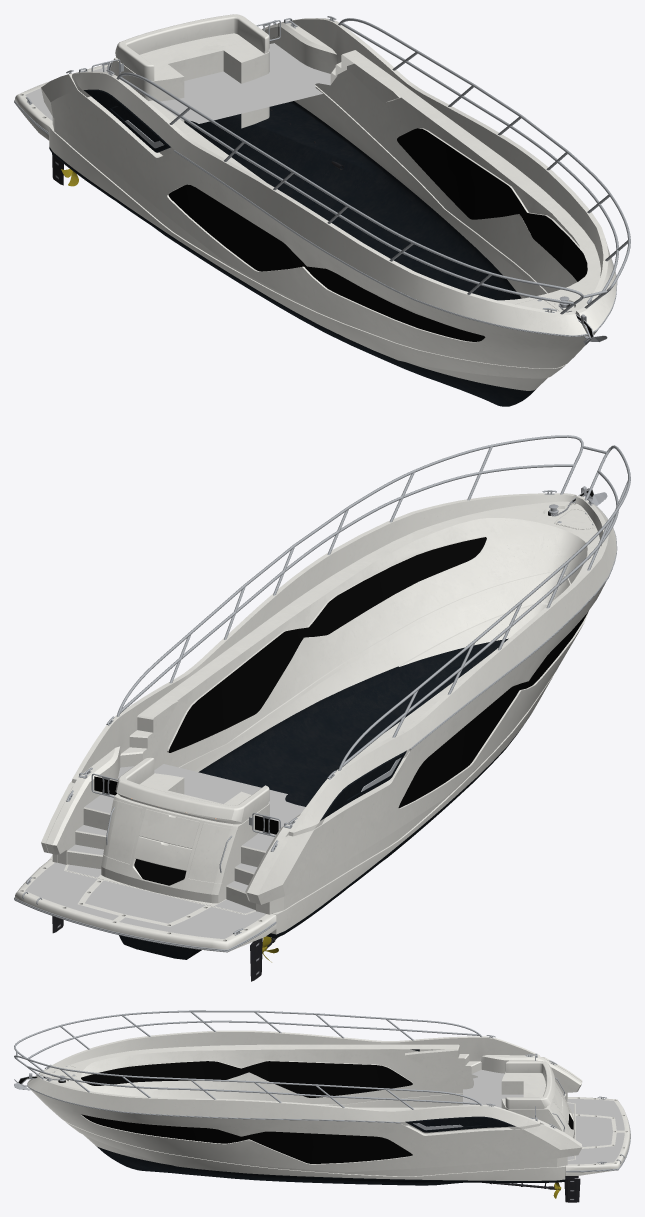
The model's file is Yacht_Base_01.fbx.
3 views of the same model, one above another, from view 1: azimuth 30°, elevation 25°; view 2: azimuth 150°, elevation 25°; view 3: azimuth 270°, elevation 25° (orthographic). The views are drawn at different scales.
Visible parts, largest first — view 1: Yacht_Base_01, Black_glass_01, Second_floor_Stair; view 2: Yacht_Base_01, Black_glass_01, Second_floor_Stair; view 3: Yacht_Base_01, Black_glass_01, Second_floor_Stair, Rudder_01.
Part boxes in pixels (x1,y1,x2,y2): Yacht_Base_01: (14, 14, 630, 406); Black_glass_01: (168, 128, 587, 341); Second_floor_Stair: (160, 43, 330, 123); Yacht_Base_01: (14, 435, 630, 959); Black_glass_01: (134, 537, 588, 885); Second_floor_Stair: (67, 764, 305, 910); Yacht_Base_01: (14, 1010, 630, 1188); Black_glass_01: (81, 1061, 573, 1163); Second_floor_Stair: (463, 1069, 566, 1107); Rudder_01: (564, 1178, 580, 1202).
Bounding box in the file's own units: 485 × 391 × 1717.
